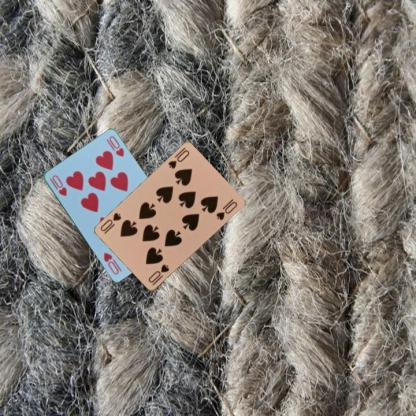10h: (47, 172, 68, 198)
10s: (146, 262, 170, 287), (165, 147, 191, 170)
